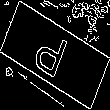P_SW: (34, 24, 76, 86)
